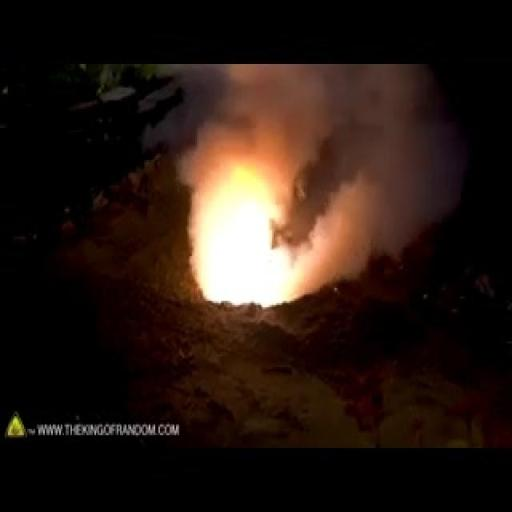smoke: (200, 177, 325, 320)
